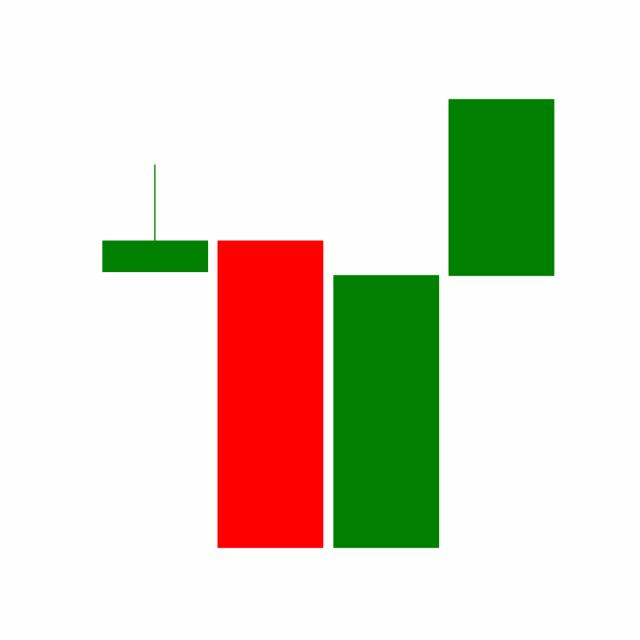Marubozu: (328, 271, 444, 550)
